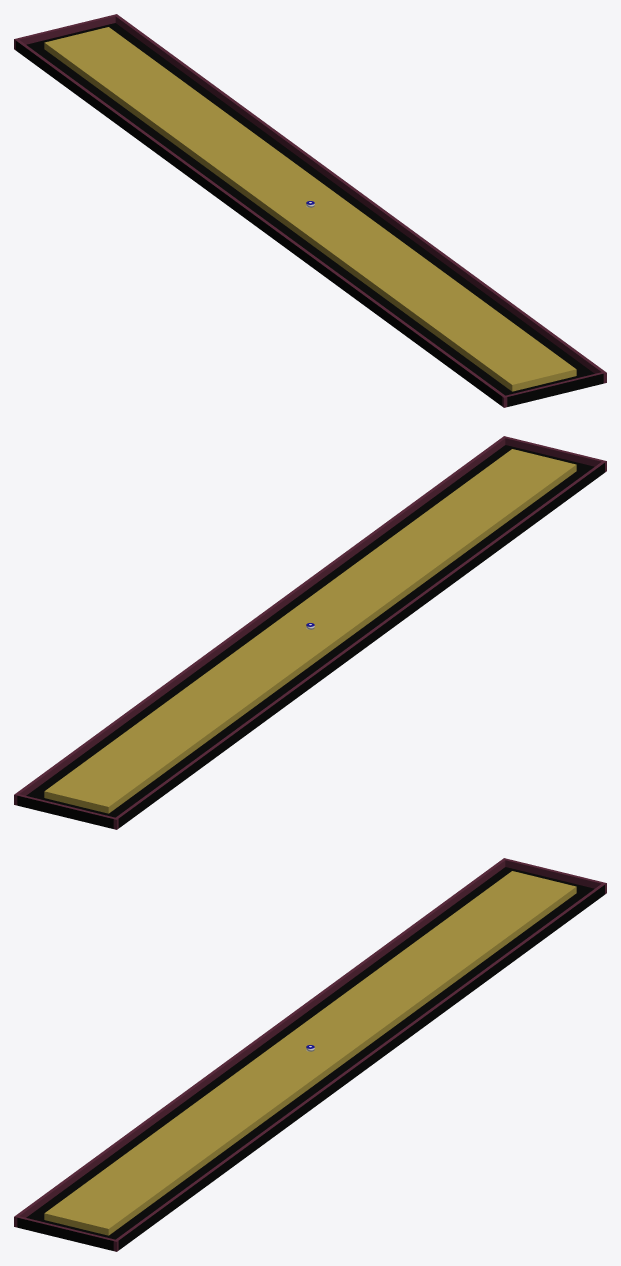
Rendered from table.glb.
3 renders of one model, top to bottom at view 1: azimuth 30°, elevation 25°; view 2: azimuth 150°, elevation 25°; view 3: azimuth 330°, elevation 25°, orthographic.
Parts seen in each view (by area): view 1: board; view 2: board; view 3: board.
Part boxes in pixels (left/top/right/bottom): board: left=14, top=14, right=606, bottom=407; board: left=14, top=436, right=606, bottom=829; board: left=14, top=858, right=606, bottom=1251.
Size of the model in its own units: 32 by 4 by 264.
